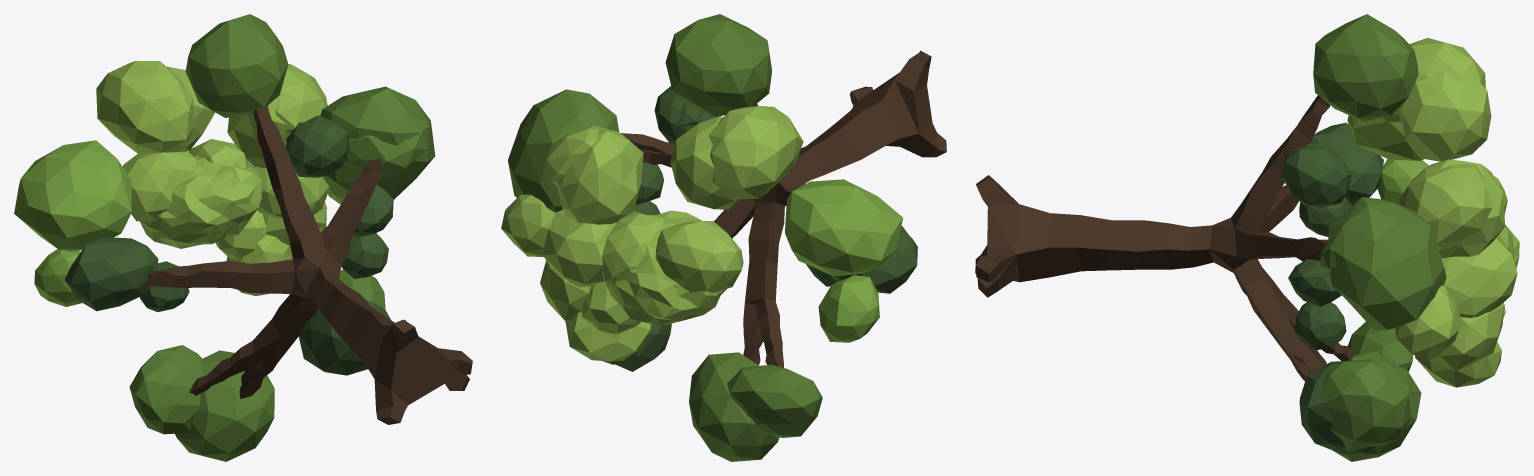
Rendered from TreeOakGreenD2.fbx.
3 views of the same model, side by side, from view 1: azimuth 30°, elevation 25°; view 2: azimuth 150°, elevation 25°; view 3: azimuth 270°, elevation 25° (orthographic). The views are drawn at different scales.
Parts seen in each view (by area): view 1: M_Tree_Leaf_Pale, M_Tree_Leaf_Mid, M_Tree_Bark, M_Tree_Leaf_Dark, M_Tree_Leaf_Light; view 2: M_Tree_Leaf_Pale, M_Tree_Leaf_Mid, M_Tree_Bark, M_Tree_Leaf_Light, M_Tree_Leaf_Dark; view 3: M_Tree_Leaf_Mid, M_Tree_Leaf_Pale, M_Tree_Bark, M_Tree_Leaf_Dark, M_Tree_Leaf_Light.
Part boxes in pixels (x1,y1,x2,y2): M_Tree_Leaf_Pale: (96, 60, 344, 295); M_Tree_Leaf_Mid: (129, 14, 435, 461); M_Tree_Bark: (145, 105, 472, 424); M_Tree_Leaf_Dark: (64, 115, 393, 375); M_Tree_Leaf_Light: (14, 140, 131, 306); M_Tree_Leaf_Pale: (501, 106, 803, 361); M_Tree_Leaf_Mid: (508, 14, 822, 461); M_Tree_Bark: (621, 50, 946, 367); M_Tree_Leaf_Light: (785, 179, 902, 342); M_Tree_Leaf_Dark: (616, 86, 917, 371); M_Tree_Leaf_Mid: (1313, 14, 1446, 461); M_Tree_Leaf_Pale: (1382, 38, 1519, 387); M_Tree_Bark: (975, 95, 1352, 381); M_Tree_Leaf_Dark: (1281, 122, 1383, 454); M_Tree_Leaf_Light: (1347, 115, 1428, 205).
Size of the model in its own units: 31.01 by 33.08 by 36.46.
